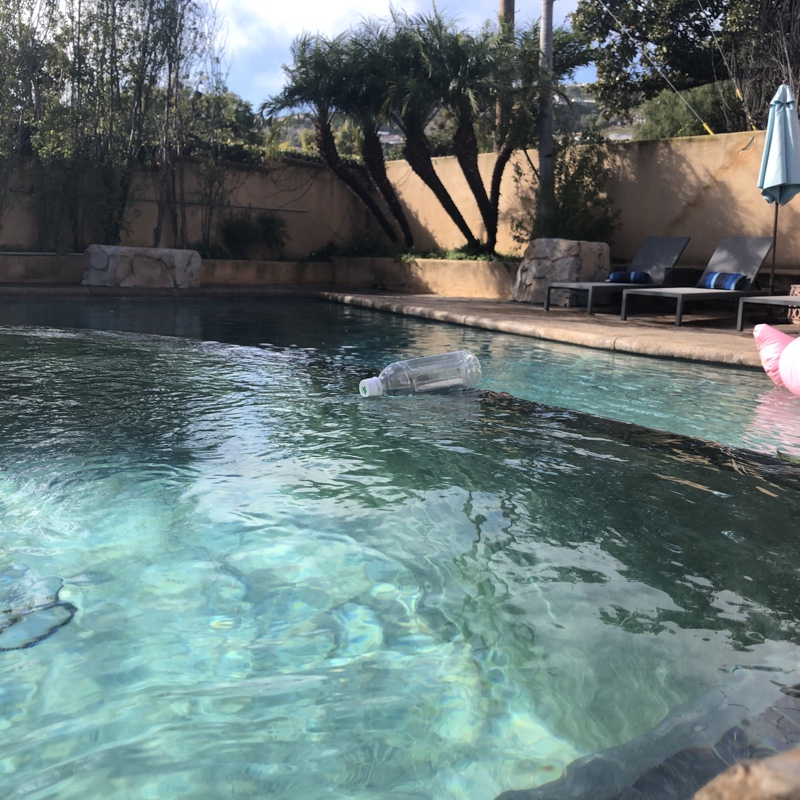Plastic Bottle: (358, 350, 482, 405)
